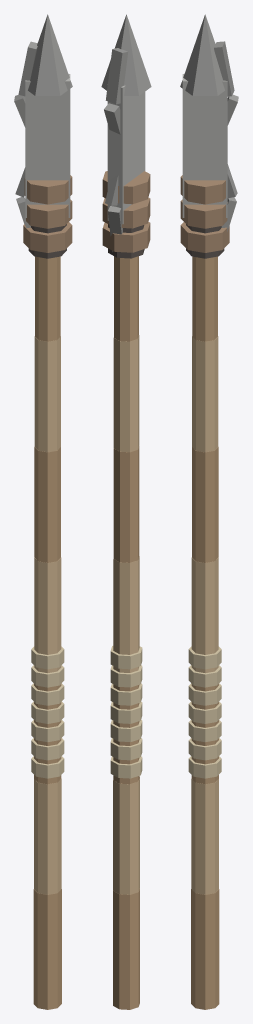
Rendered from spear.glb.
The picture shows the model from 3 angles, left to right: view 1: azimuth 90°, elevation 25°; view 2: azimuth 150°, elevation 25°; view 3: azimuth 270°, elevation 25°; orthographic projection.
Parts seen in each view (by area): view 1: spear; view 2: spear; view 3: spear.
Boxes of the visible parts, bbox=[...] form: spear: bbox=[14, 14, 72, 1009]; spear: bbox=[101, 14, 151, 1009]; spear: bbox=[180, 14, 238, 1009].
Bounding box in the file's own units: 0.0976 × 2.17 × 0.117.
